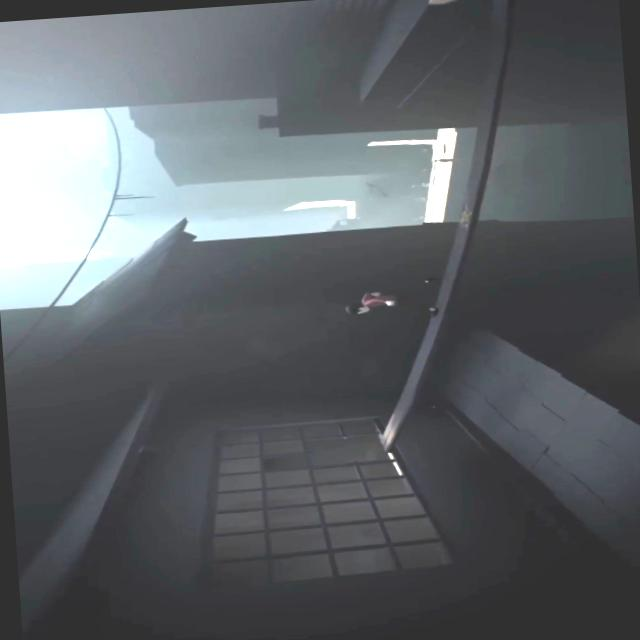boy: (341, 280, 441, 319)
zombie: (432, 158, 452, 162)
